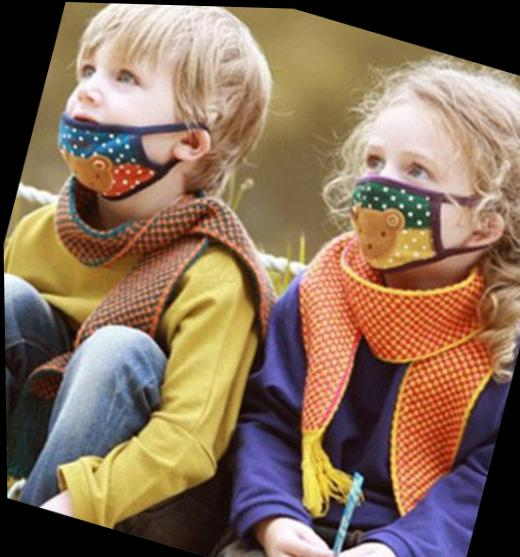OK: (330, 129, 477, 277)
WRONG: (45, 41, 198, 196)
